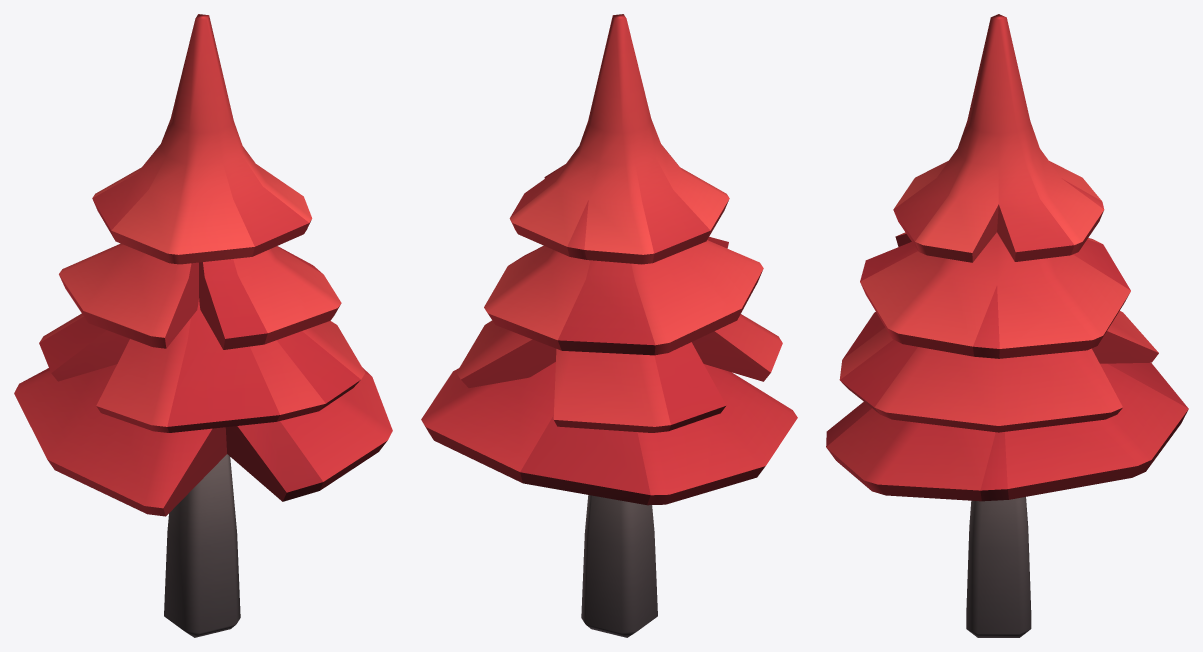
File: pine_tree_col3_10.fbx
3 renders of one model, left to right at view 1: azimuth 30°, elevation 25°; view 2: azimuth 150°, elevation 25°; view 3: azimuth 270°, elevation 25°, orthographic.
Visible parts, largest first — view 1: tree_pine_col3_10; view 2: tree_pine_col3_10; view 3: tree_pine_col3_10.
Part boxes in pixels (x1,y1,x2,y2): tree_pine_col3_10: (14, 14, 392, 637); tree_pine_col3_10: (421, 14, 797, 637); tree_pine_col3_10: (826, 14, 1188, 637).
Bounding box in the file's own units: 349 × 649 × 349.
Materials: 1 (1 with a texture image).
